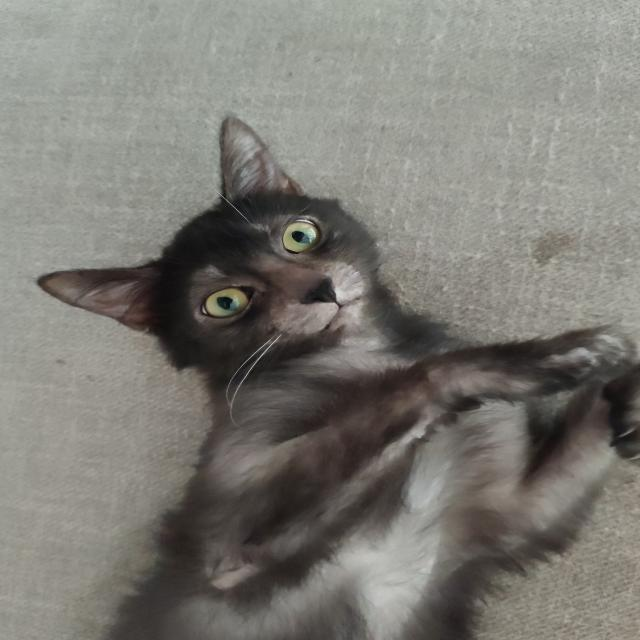Lykoi: (28, 109, 640, 640)
